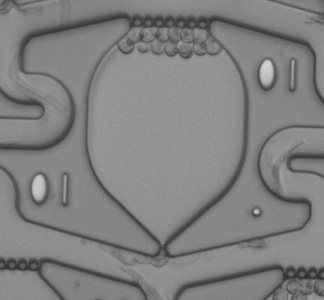AptNum: (253, 52, 303, 98)
Marker: (246, 203, 267, 221)
StNum: (26, 166, 78, 211)
